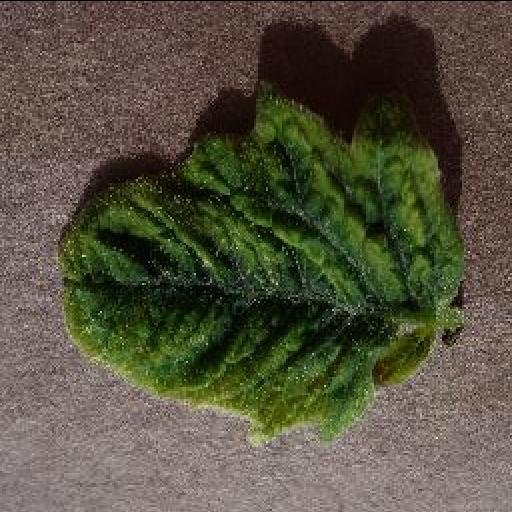disease_tomato: (55, 89, 465, 447)
